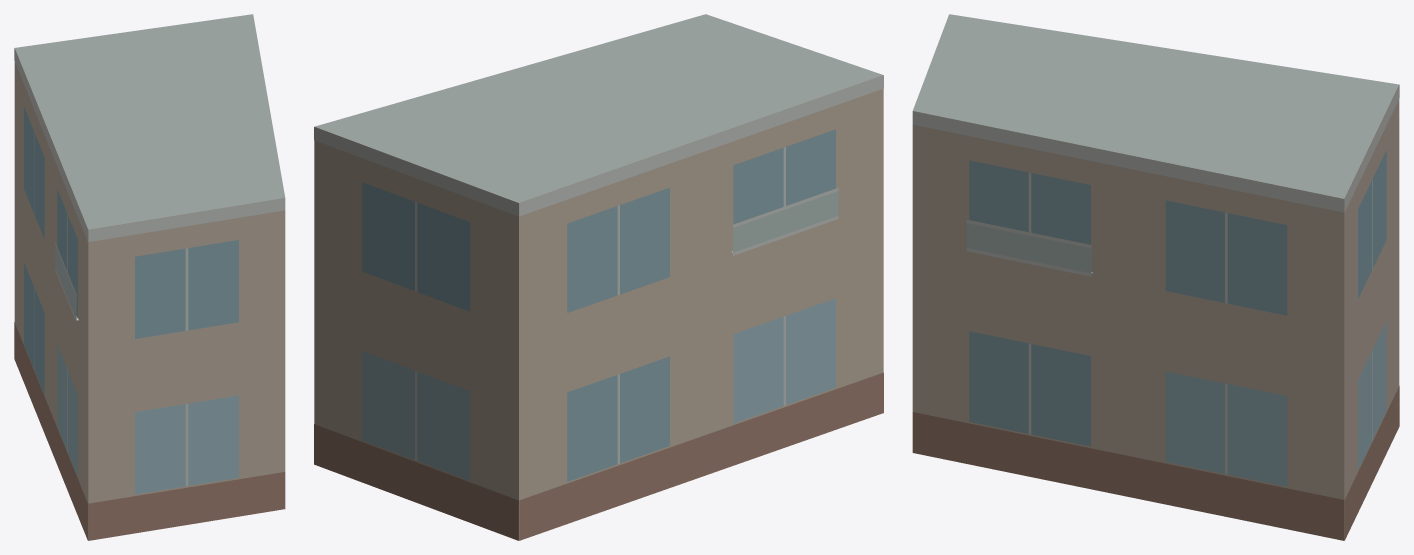
File: survey-upis-32497646.glb
The picture shows the model from 3 angles, left to right: view 1: azimuth 30°, elevation 25°; view 2: azimuth 150°, elevation 25°; view 3: azimuth 270°, elevation 25°; orthographic projection. The views are drawn at different scales.
Parts seen in each view (by area): view 1: survey-upis-32497646.tmp; view 2: survey-upis-32497646.tmp; view 3: survey-upis-32497646.tmp.
Part boxes in pixels (x1=…): survey-upis-32497646.tmp: x1=14, y1=14, x2=285, y2=540; survey-upis-32497646.tmp: x1=314, y1=14, x2=883, y2=540; survey-upis-32497646.tmp: x1=912, y1=14, x2=1399, y2=540.
Bounding box in the file's own units: 7.09 × 6.1 × 7.88.
